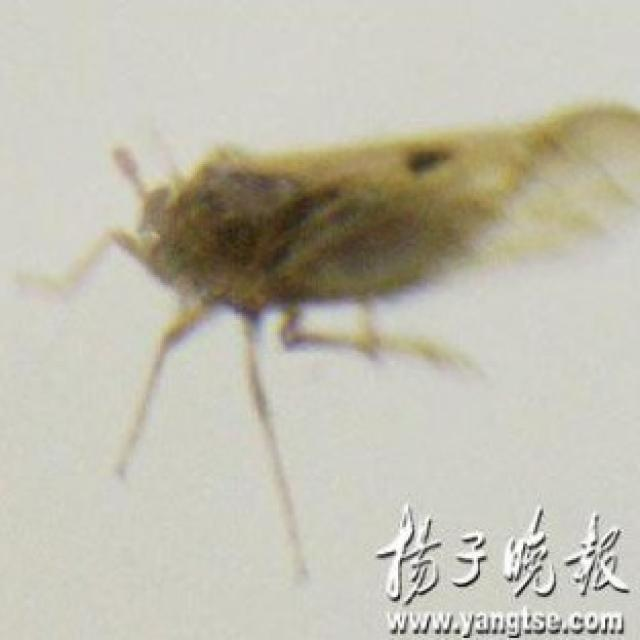brown plant hopper: (29, 105, 638, 572)
